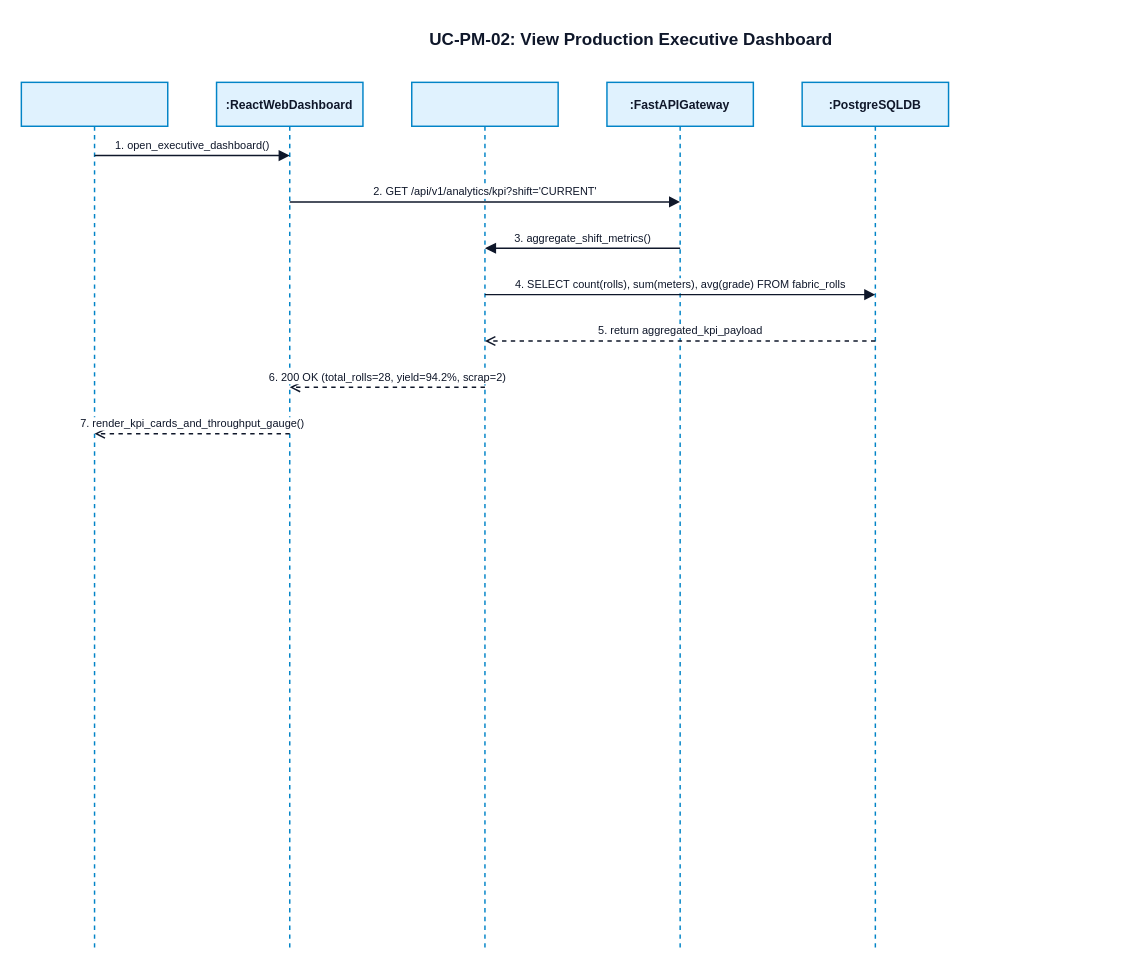
Some shapes in this 1141 by 970 pixel diagram are drawn without their labels. Each missing label, with the box of its shape:
:AnalyticsEngine: (410, 81, 558, 949)
:ProductionManager: (20, 81, 168, 949)
